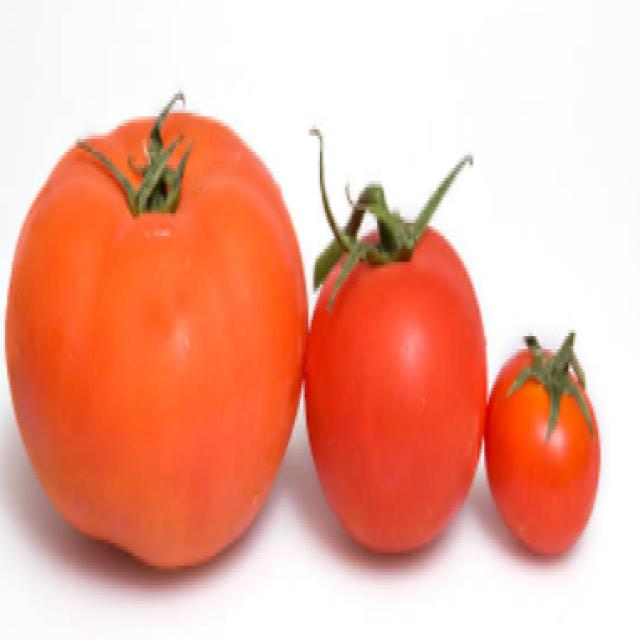Tomato: (14, 77, 304, 575), (284, 181, 490, 552), (472, 275, 611, 581)
